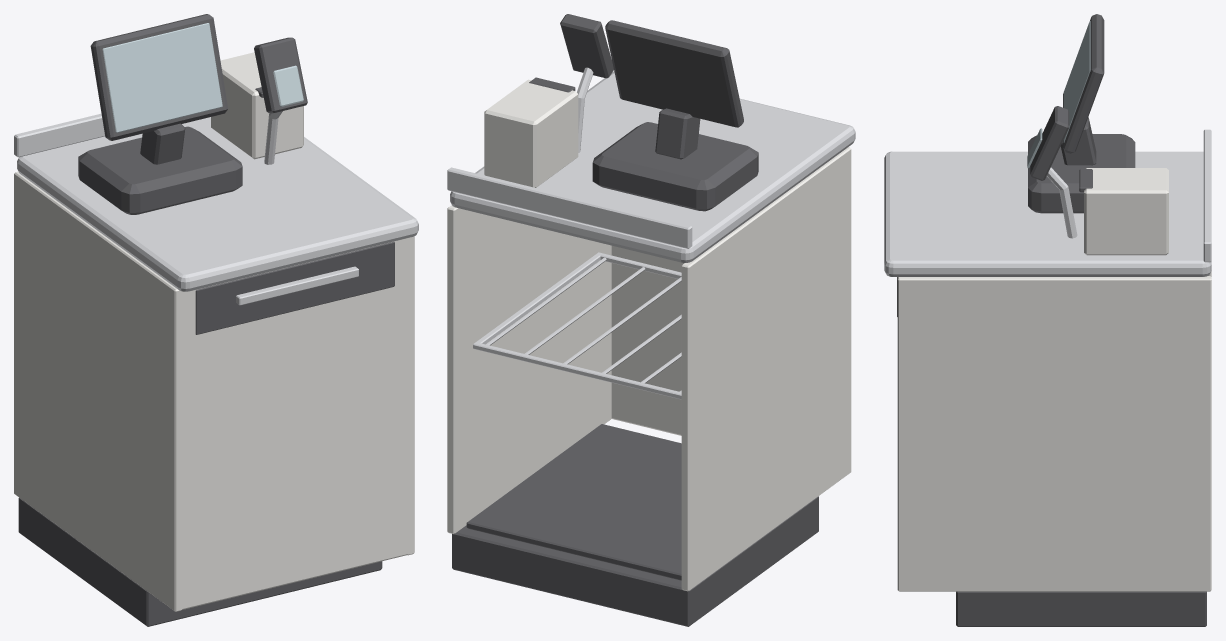
Rendered from fast-food-and-drive-thru-counter-till-position-2d8cfec6__16107.glb.
3 renders of one model, left to right at view 1: azimuth 30°, elevation 25°; view 2: azimuth 150°, elevation 25°; view 3: azimuth 270°, elevation 25°, orthographic. The views are drawn at different scales.
Visible parts, largest first — view 1: counter-till-position, till-drawer/dark, till-drawer/metal; view 2: counter-till-position; view 3: counter-till-position.
Boxes of the visible parts, x1,y1,x2,y2 form: counter-till-position: (14, 14, 418, 626); till-drawer/dark: (195, 241, 394, 334); till-drawer/metal: (236, 266, 358, 305); counter-till-position: (447, 14, 855, 626); counter-till-position: (884, 14, 1211, 626).
Size of the model in its own units: 0.6001 by 1.26 by 0.73.
